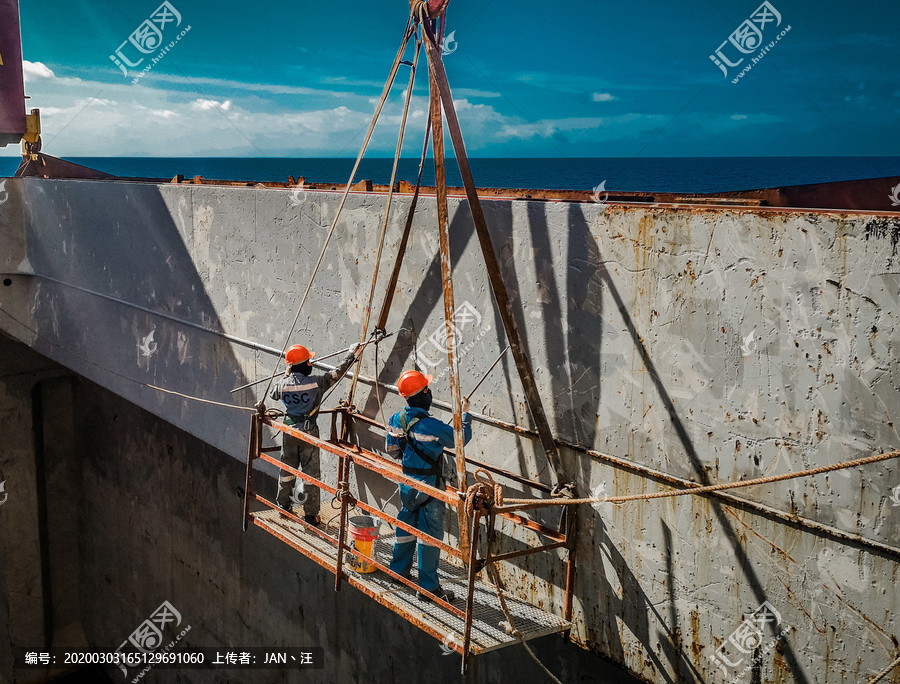safetyhat: (376, 355, 466, 587), (254, 334, 335, 536)
